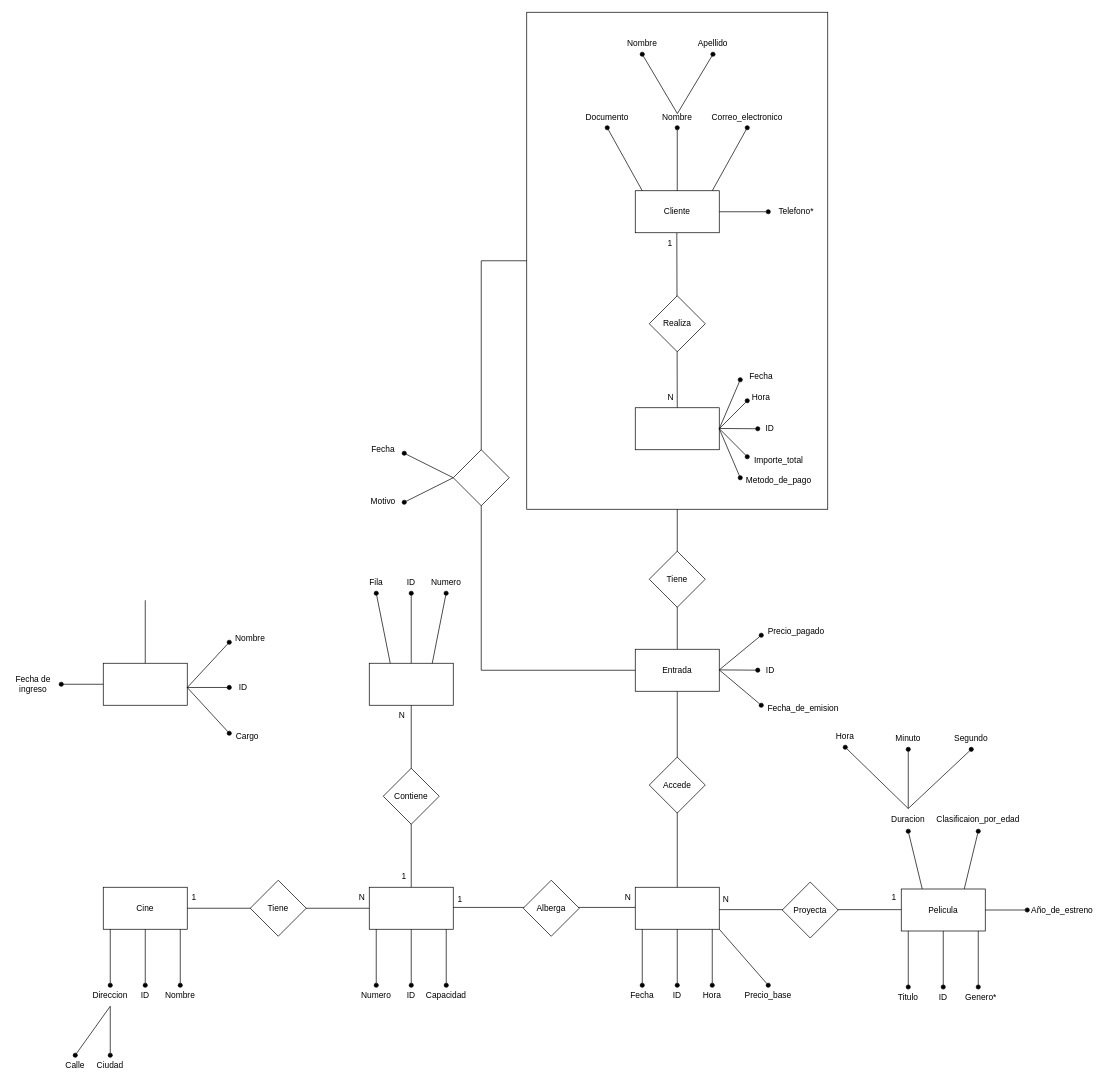
This 1105x1089 diagram has some shape labels left out. Each missing label, with the box of its shape:
Asiento: (369, 663, 453, 705)
Cancela: (453, 449, 509, 506)
Compra: (635, 407, 719, 450)
Empleado: (103, 663, 187, 705)
Funcion: (635, 887, 719, 929)
Sala: (369, 887, 453, 929)
